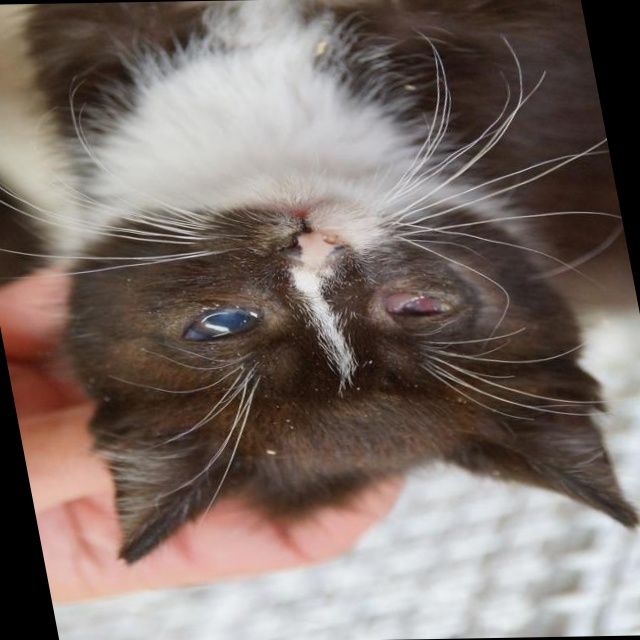eye_infection: (378, 280, 465, 330)
